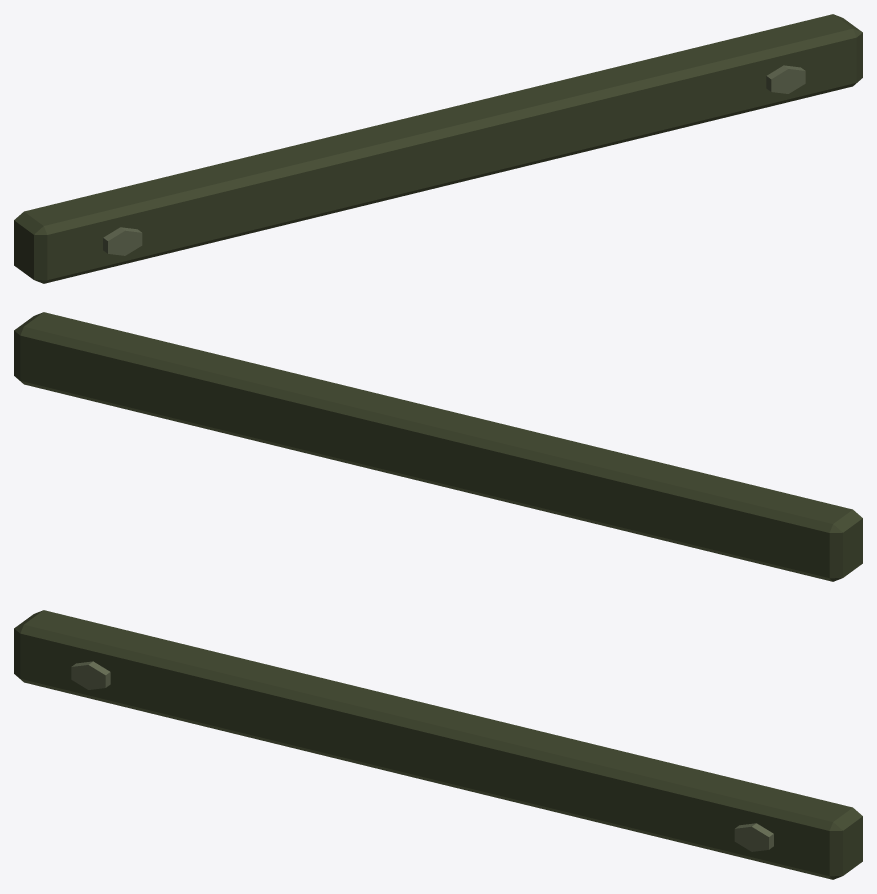
The model's file is fenceRails.obj.
3 views of the same model, one above another, from view 1: azimuth 30°, elevation 25°; view 2: azimuth 150°, elevation 25°; view 3: azimuth 330°, elevation 25° (orthographic).
Parts seen in each view (by area): view 1: fenceRails; view 2: fenceRails; view 3: fenceRails.
Part boxes in pixels (box(x1,y1,x2,y2)): fenceRails: box(14, 14, 862, 283); fenceRails: box(14, 312, 862, 581); fenceRails: box(14, 610, 862, 879).
Size of the model in its own units: 1.8 by 0.12 by 0.12.
Materials: 1 (1 with a texture image).
